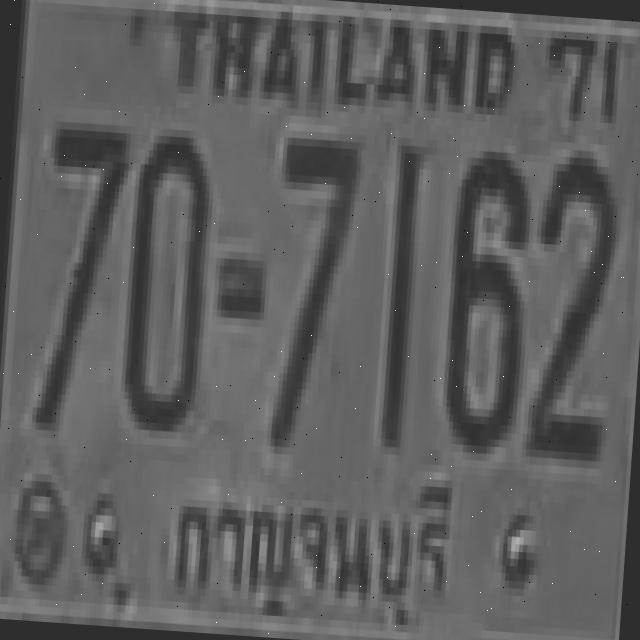0: (118, 127, 213, 426)
1: (377, 138, 417, 440)
2: (524, 148, 619, 454)
6: (436, 142, 530, 448)
7: (32, 114, 128, 426), (263, 130, 358, 436)
Kanchanaburi: (164, 447, 465, 632)
